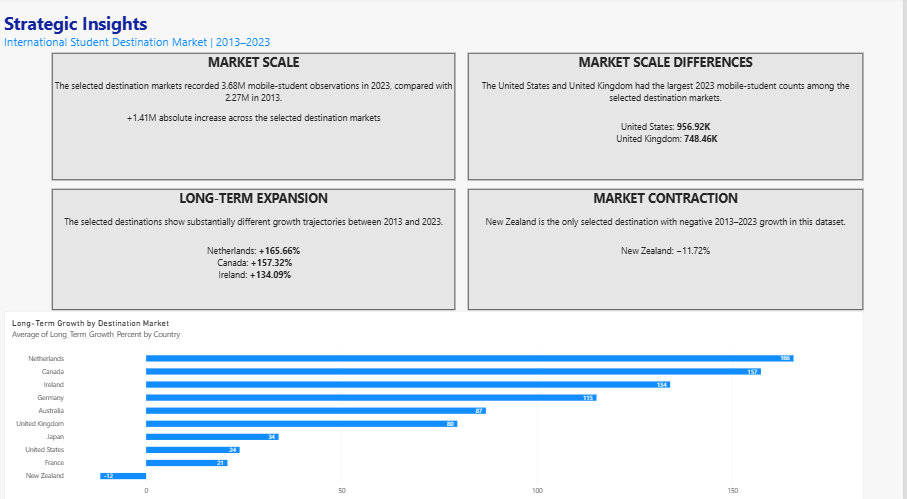

The page's visual inventory and layout, read from the dashboard file:
{"tool":"powerbi","page":{"name":"Strategic Insights","canvas":[1920,1080],"ordinal":3},"visuals":[{"type":"textbox","box":[10,30,682,90],"z":0},{"type":"textbox","box":[112.7,119.1,856.8,270],"z":1000},{"type":"textbox","box":[997.1,119.1,839.8,270],"z":2000},{"type":"textbox","box":[112.7,408.2,856.8,257.2],"z":3000},{"type":"textbox","box":[997.1,408.2,839.8,257.2],"z":4000},{"type":"clusteredBarChart","title":"Long-Term Growth by Destination Market","fields":{"Category":["Destination_Market_Analysis.Country"],"Y":["Avg(Destination_Market_Analysis.Long_Term_Growth_Percent)"]},"box":[10,666.7,1826.7,413.3],"z":5000}]}

Visuals, with their boxes in screenshot pixels (x1, y1, x2, y2), scaled from the page's 1920x1080 canvas onto the 907x499 screenshot:
textbox: 5:14:327:55
textbox: 53:55:458:180
textbox: 471:55:868:180
textbox: 53:189:458:307
textbox: 471:189:868:307
"Long-Term Growth by Destination Market" clusteredBarChart: 5:308:868:498
